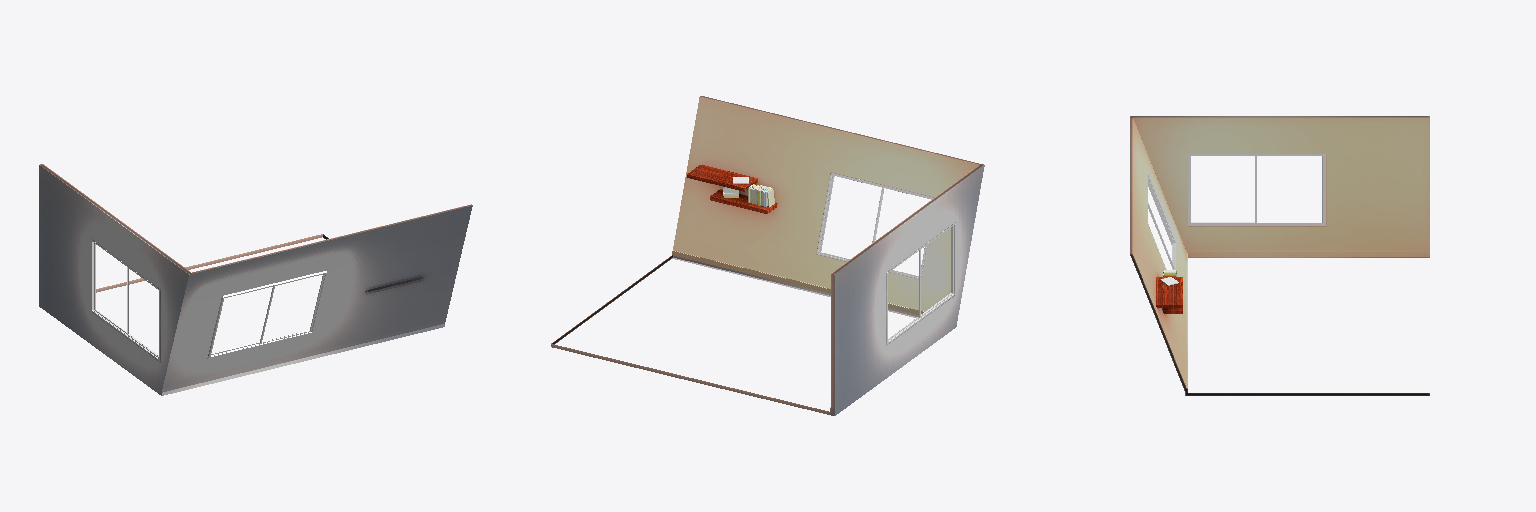
3 renders of one model, left to right at view 1: azimuth 30°, elevation 25°; view 2: azimuth 150°, elevation 25°; view 3: azimuth 270°, elevation 25°, orthographic.
Visible parts, largest first — view 1: Wall; view 2: Wall; view 3: Wall.
Part boxes in pixels (x1,y1,x2,y2): Wall: (39, 164, 472, 395); Wall: (551, 96, 984, 415); Wall: (1130, 116, 1429, 395).
Bounding box in the file's own units: 5.08 × 2.43 × 4.66.
4 materials, 2 textured.